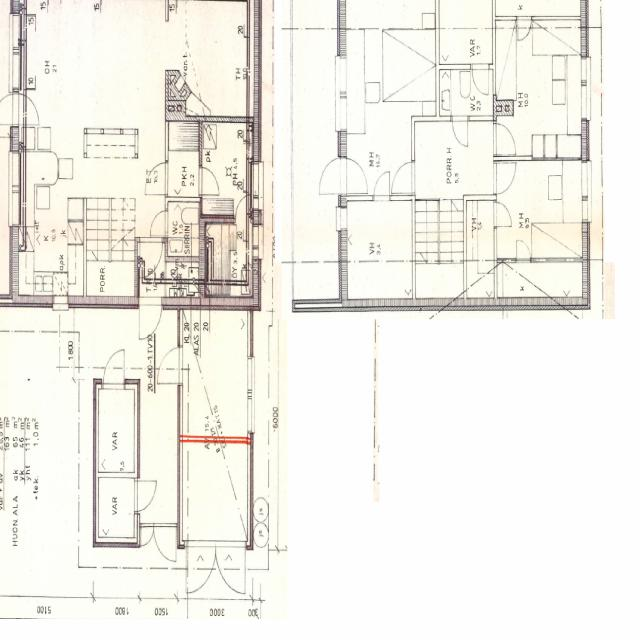door: (215, 541, 245, 597), (186, 541, 215, 597), (314, 158, 346, 194), (337, 158, 369, 194), (139, 298, 162, 346), (154, 348, 182, 384), (10, 94, 38, 125), (154, 523, 176, 562), (104, 347, 124, 389), (140, 238, 162, 276), (144, 162, 168, 195), (494, 122, 518, 154), (134, 481, 159, 511), (392, 162, 416, 193), (494, 163, 517, 193), (0, 93, 18, 124), (199, 168, 219, 195), (472, 64, 488, 95), (149, 210, 168, 236), (374, 171, 390, 201), (494, 202, 513, 226), (236, 192, 250, 224), (453, 117, 468, 146), (518, 16, 531, 42), (517, 238, 530, 262), (141, 523, 154, 546)
